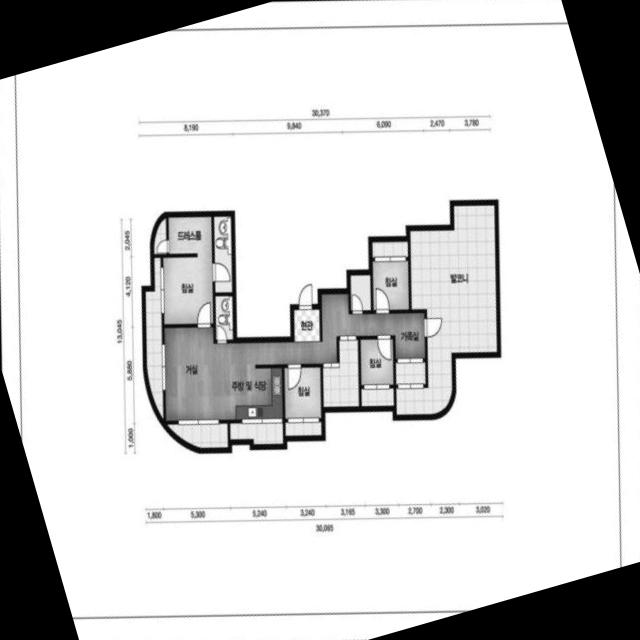background: (0, 0, 640, 640)
space_balconi: (395, 205, 496, 414), (145, 257, 162, 418), (322, 339, 358, 406), (167, 423, 227, 447), (229, 422, 282, 443), (371, 241, 407, 257), (360, 388, 393, 405), (284, 421, 320, 435), (153, 218, 165, 253)
space_bedroom: (162, 257, 212, 323), (283, 367, 320, 418), (372, 260, 408, 310), (360, 338, 392, 385)
space_dressroom: (167, 216, 211, 253)
space_front: (293, 309, 319, 342)
space_kitchen: (225, 367, 281, 419)
space_living_room: (164, 293, 424, 419)
space_other: (350, 275, 370, 310)
space_toilet: (213, 215, 231, 292), (215, 295, 232, 339)
